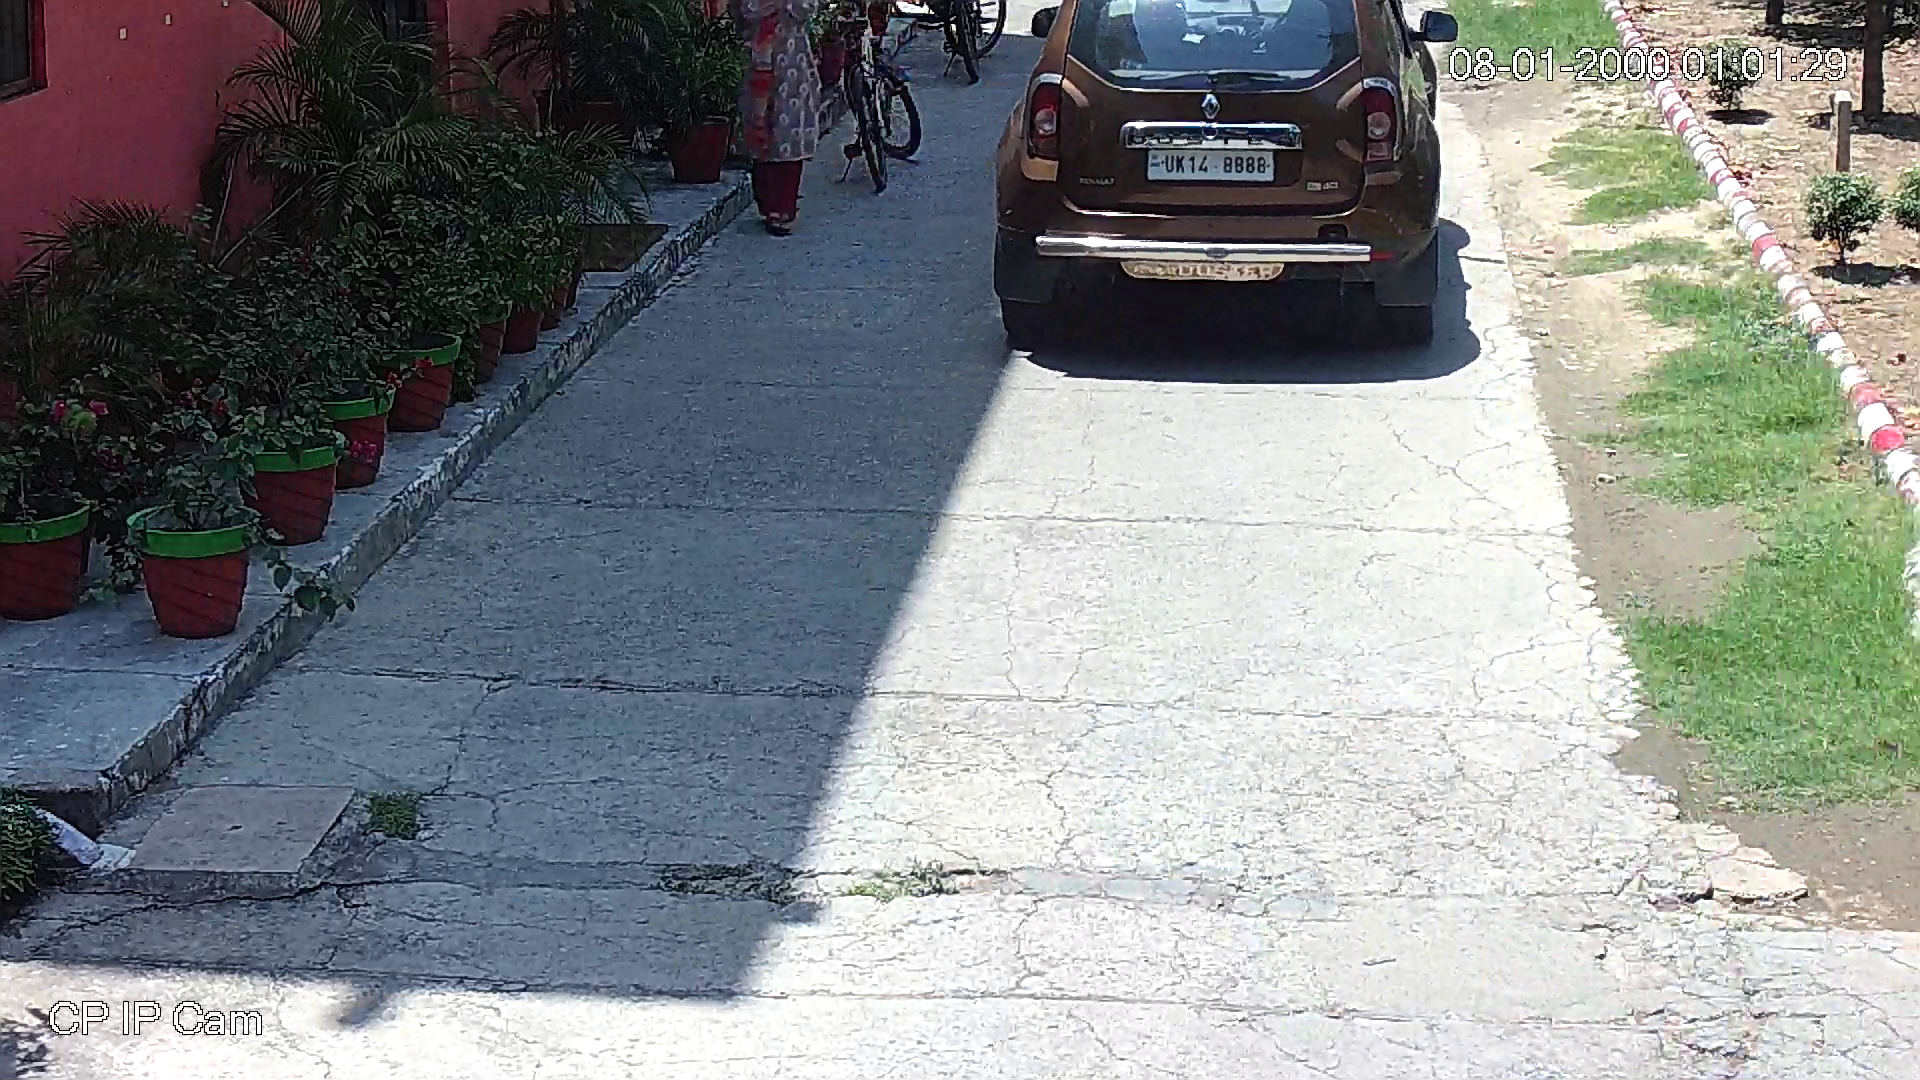plate: (1141, 145, 1278, 187)
